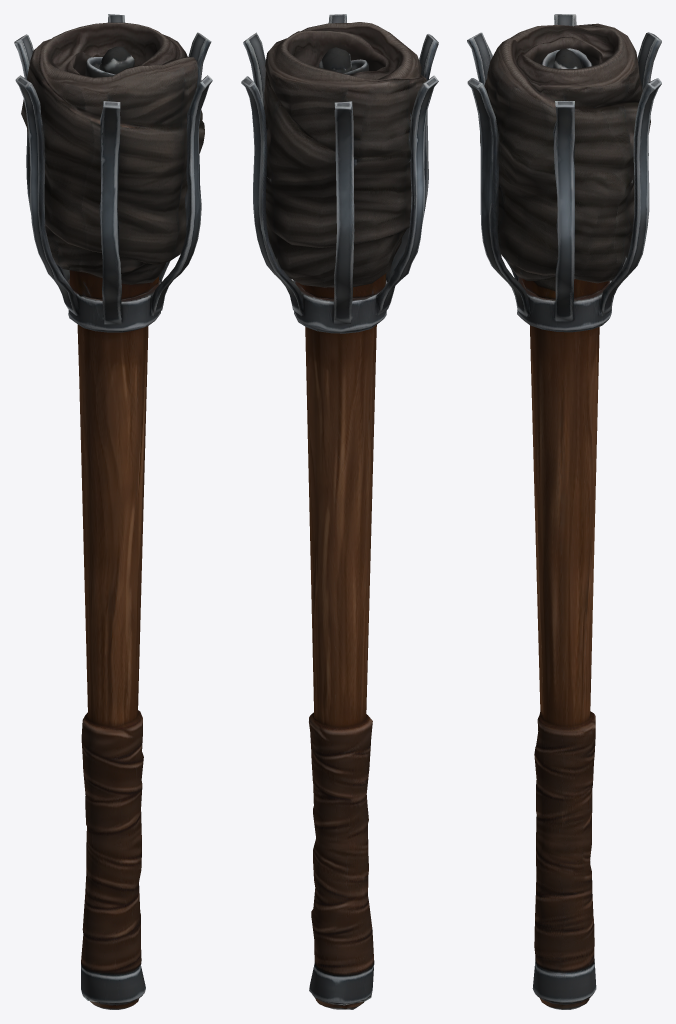
Rendered from Torch.glb.
3 views of the same model, side by side, from view 1: azimuth 30°, elevation 25°; view 2: azimuth 150°, elevation 25°; view 3: azimuth 270°, elevation 25° (orthographic).
Size of the model in its own units: 0.1929 by 0.9502 by 0.1753.
Materials: 1 (1 with a texture image).
